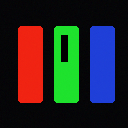4 line_v: (61, 35, 67, 61)
